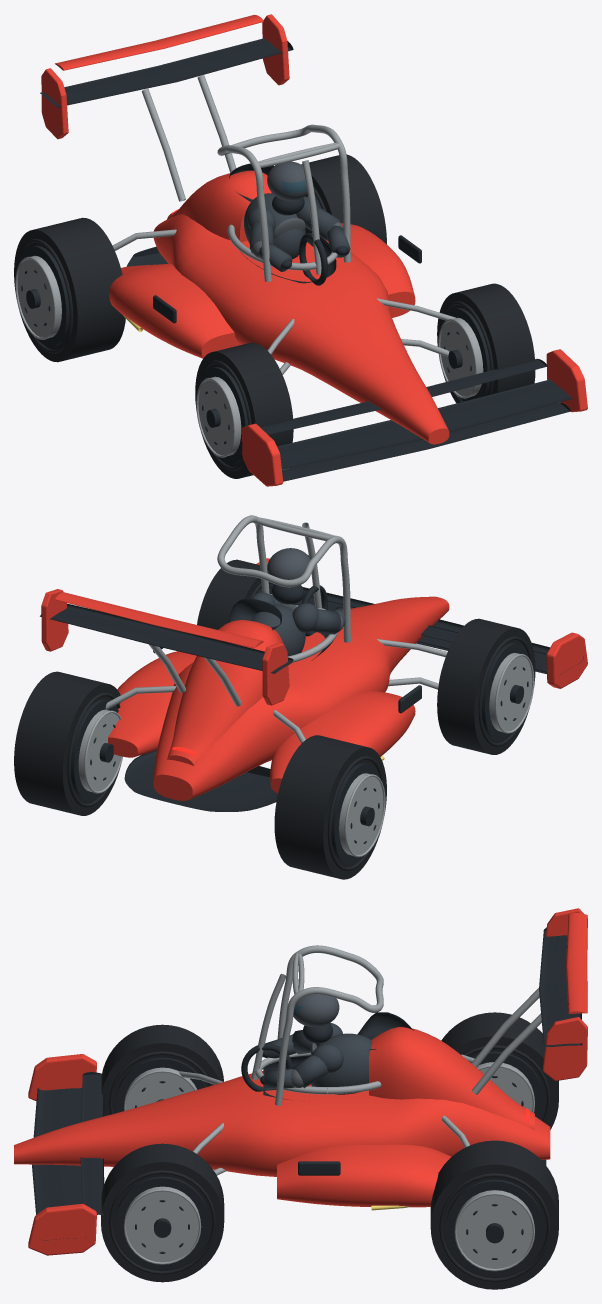
The model's file is car_apex_gp.glb.
3 views of the same model, one above another, from view 1: azimuth 30°, elevation 25°; view 2: azimuth 150°, elevation 25°; view 3: azimuth 270°, elevation 25° (orthographic).
Parts seen in each view (by area): view 1: Blender Vehicle - Apex Grand Prix.016 - Vehicle Body, WheelMesh_F1Rear_car_apex_gp_-1.026, WheelMesh_F1Front_car_apex_gp_-1.026, WheelMesh_F1Front_car_apex_gp_1.026, WheelMesh_F1Rear_car_apex_gp_1.026, Halo_Main_car_apex_gp.020, RearWing_Pylon_car_apex_gp_-1.020, Halo_CenterPillar_car_apex_gp.020, RearWing_Pylon_car_apex_gp_1.020, Halo_Crossbar_car_apex_gp.020, CockpitRim_car_apex_gp.020; view 2: Blender Vehicle - Apex Grand Prix.016 - Vehicle Body, WheelMesh_F1Rear_car_apex_gp_-1.026, WheelMesh_F1Rear_car_apex_gp_1.026, WheelMesh_F1Front_car_apex_gp_-1.026, Halo_Main_car_apex_gp.020, WheelMesh_F1Front_car_apex_gp_1.026, Halo_Crossbar_car_apex_gp.020, SuspensionRearUpper_car_apex_gp_1.020, Halo_CenterPillar_car_apex_gp.020; view 3: Blender Vehicle - Apex Grand Prix.016 - Vehicle Body, WheelMesh_F1Rear_car_apex_gp_1.026, WheelMesh_F1Front_car_apex_gp_1.026, WheelMesh_F1Front_car_apex_gp_-1.026, WheelMesh_F1Rear_car_apex_gp_-1.026, Halo_Main_car_apex_gp.020, CockpitRim_car_apex_gp.020, RearWing_Pylon_car_apex_gp_1.020, RearWing_Pylon_car_apex_gp_-1.020, Halo_CenterPillar_car_apex_gp.020.
Boxes of the visible parts, <box> form: Blender Vehicle - Apex Grand Prix.016 - Vehicle Body: <box>40,14,587,486</box>; WheelMesh_F1Rear_car_apex_gp_-1.026: <box>14,217,125,362</box>; WheelMesh_F1Front_car_apex_gp_-1.026: <box>195,342,293,478</box>; WheelMesh_F1Front_car_apex_gp_1.026: <box>437,283,535,403</box>; WheelMesh_F1Rear_car_apex_gp_1.026: <box>301,154,386,244</box>; Halo_Main_car_apex_gp.020: <box>217,124,350,281</box>; RearWing_Pylon_car_apex_gp_-1.020: <box>141,88,185,201</box>; Halo_CenterPillar_car_apex_gp.020: <box>302,160,321,274</box>; RearWing_Pylon_car_apex_gp_1.020: <box>197,75,236,172</box>; Halo_Crossbar_car_apex_gp.020: <box>258,142,339,167</box>; CockpitRim_car_apex_gp.020: <box>227,224,337,270</box>; Blender Vehicle - Apex Grand Prix.016 - Vehicle Body: <box>40,548,587,811</box>; WheelMesh_F1Rear_car_apex_gp_-1.026: <box>274,735,386,879</box>; WheelMesh_F1Rear_car_apex_gp_1.026: <box>14,671,122,815</box>; WheelMesh_F1Front_car_apex_gp_-1.026: <box>437,618,535,754</box>; Halo_Main_car_apex_gp.020: <box>217,515,350,642</box>; WheelMesh_F1Front_car_apex_gp_1.026: <box>197,559,293,629</box>; Halo_Crossbar_car_apex_gp.020: <box>256,517,335,540</box>; SuspensionRearUpper_car_apex_gp_1.020: <box>105,686,176,709</box>; Halo_CenterPillar_car_apex_gp.020: <box>302,522,321,608</box>; Blender Vehicle - Apex Grand Prix.016 - Vehicle Body: <box>14,908,587,1255</box>; WheelMesh_F1Rear_car_apex_gp_1.026: <box>430,1140,558,1289</box>; WheelMesh_F1Front_car_apex_gp_1.026: <box>101,1143,224,1282</box>; WheelMesh_F1Front_car_apex_gp_-1.026: <box>101,1024,223,1116</box>; WheelMesh_F1Rear_car_apex_gp_-1.026: <box>441,1012,558,1129</box>; Halo_Main_car_apex_gp.020: <box>275,945,383,1105</box>; CockpitRim_car_apex_gp.020: <box>255,1052,381,1094</box>; RearWing_Pylon_car_apex_gp_1.020: <box>472,1013,541,1094</box>; RearWing_Pylon_car_apex_gp_-1.020: <box>472,988,539,1067</box>; Halo_CenterPillar_car_apex_gp.020: <box>251,973,286,1080</box>.
Bounding box in the file's own units: 2.92 × 2.05 × 4.24.
